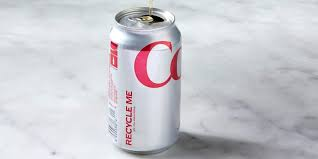can: (110, 5, 183, 157)
